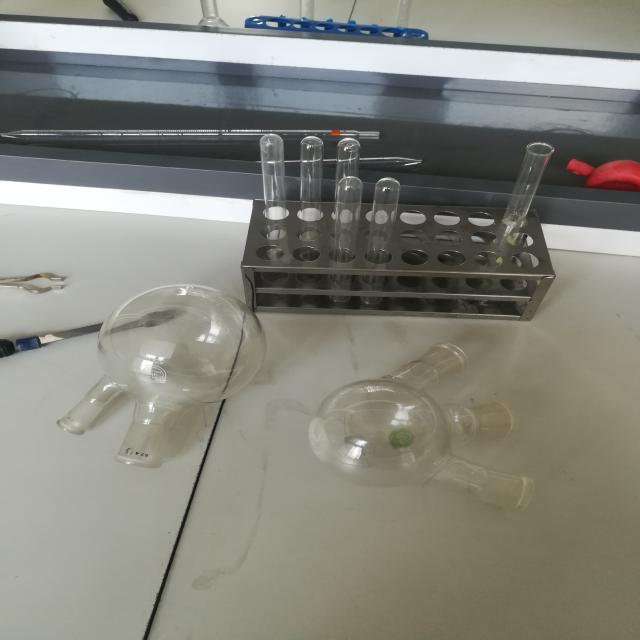Round_Bottom_Flask_Borosilicate_Glass_2_Neck: (30, 278, 282, 480)
Round_Bottom_Flask_Borosilicate_Glass_3_Neck: (293, 328, 567, 525)
